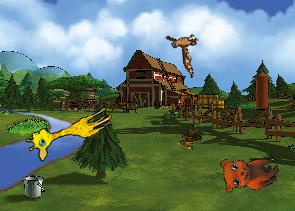bear: (215, 141, 283, 200)
eagle: (155, 21, 214, 78)
giraffe: (22, 95, 116, 164)
